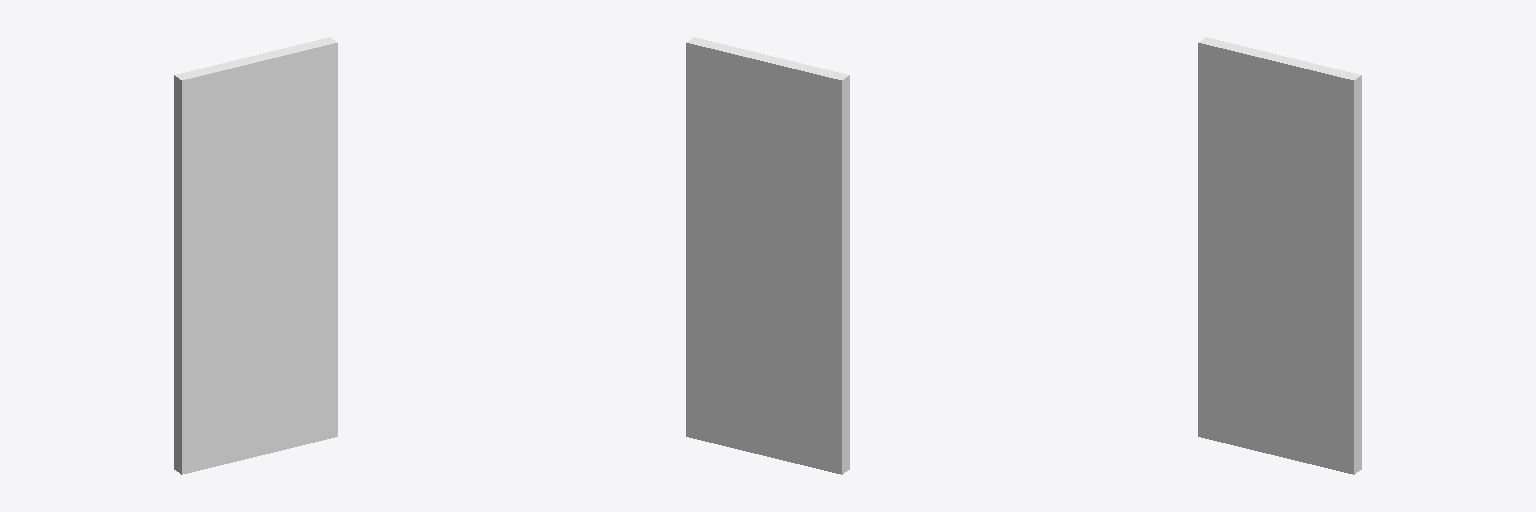
File: mesh_prop_locker_door.obj
The picture shows the model from 3 angles: view 1: azimuth 30°, elevation 25°; view 2: azimuth 150°, elevation 25°; view 3: azimuth 330°, elevation 25°; orthographic projection.
Visible parts, largest first — view 1: object 1; view 2: object 1; view 3: object 1.
Boxes of the visible parts, x1=… form: object 1: x1=174, y1=37, x2=337, y2=474; object 1: x1=686, y1=37, x2=849, y2=474; object 1: x1=1198, y1=37, x2=1361, y2=474.
Bounding box in the file's own units: 1.2 × 2.9 × 0.1.